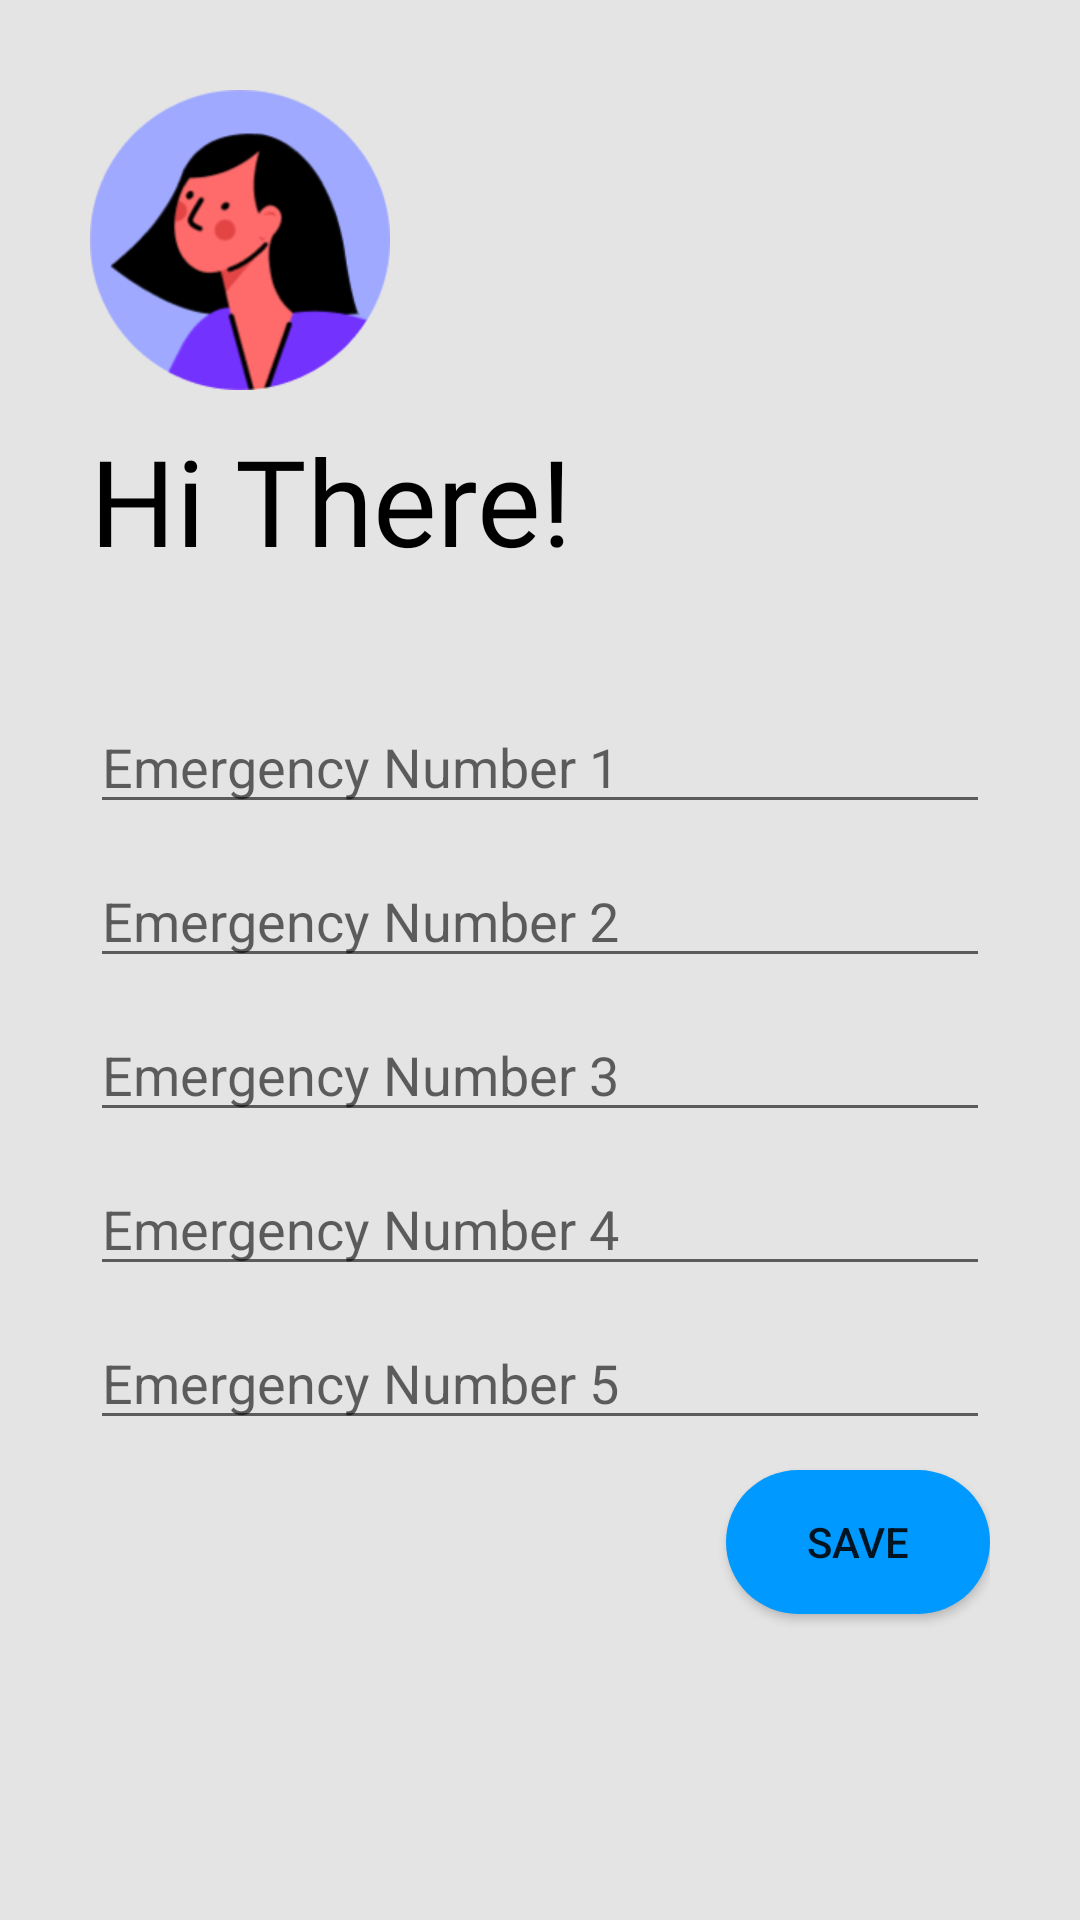

Named icons in this screenshot (1080px x 1920px) and their centers, (x,y):
avatarwoman: (240,240)
